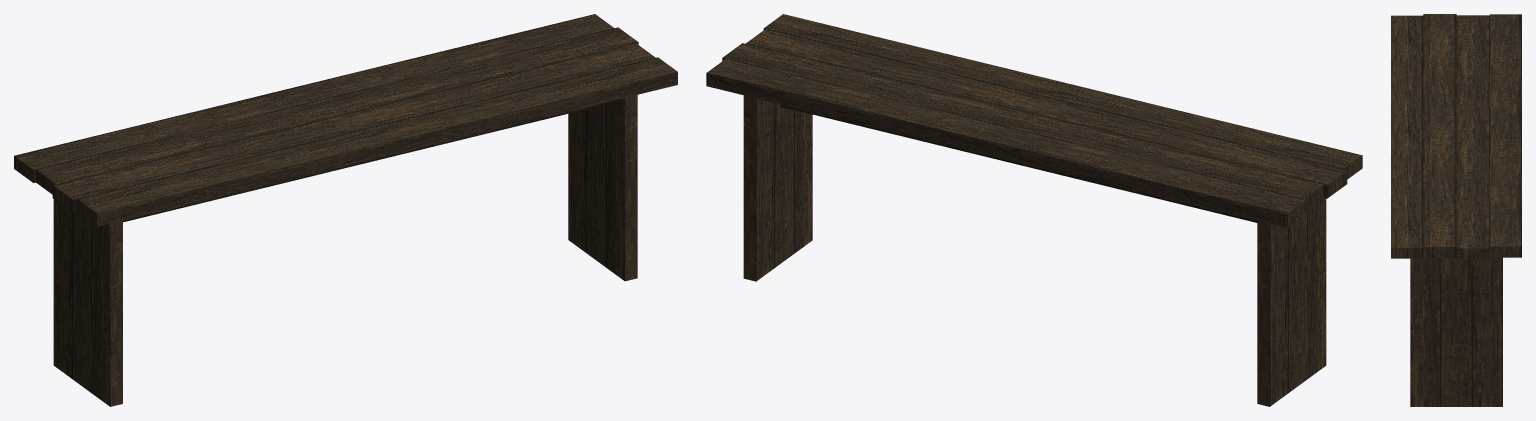
The model's file is bench_mx_1_2.glb.
The picture shows the model from 3 angles, left to right: view 1: azimuth 30°, elevation 25°; view 2: azimuth 150°, elevation 25°; view 3: azimuth 270°, elevation 25°; orthographic projection. The views are drawn at different scales.
Parts seen in each view (by area): view 1: bench_mx_1_2; view 2: bench_mx_1_2; view 3: bench_mx_1_2.
Part boxes in pixels (<box>): bench_mx_1_2: <box>14,14,677,406</box>; bench_mx_1_2: <box>706,14,1362,406</box>; bench_mx_1_2: <box>1391,14,1521,406</box>.
Size of the model in its own units: 1.86 by 0.63 by 0.438.
Materials: 1 (1 with a texture image).
